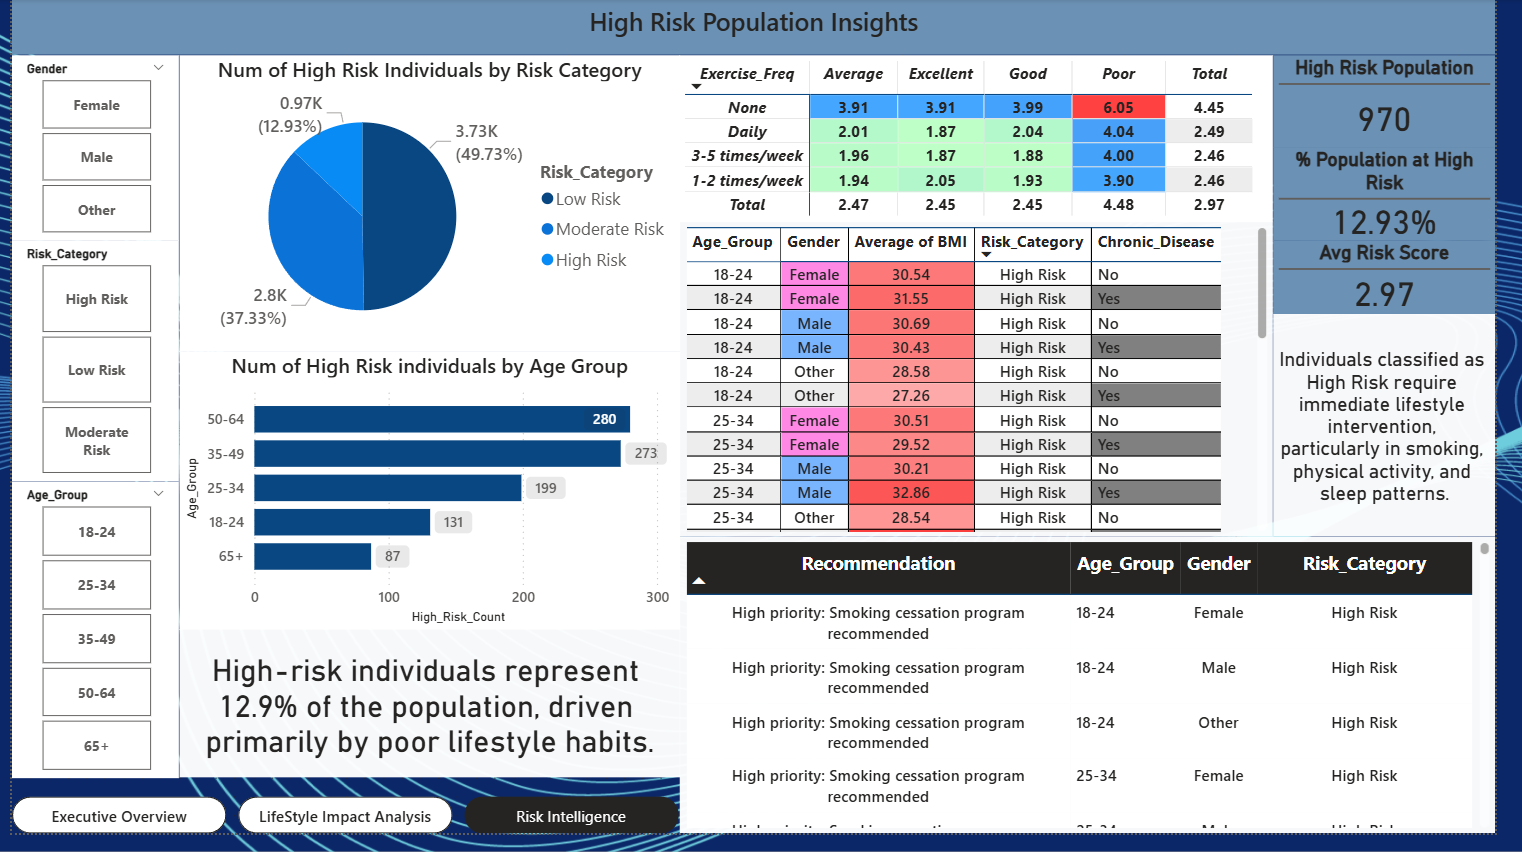

The dashboard page shown, as its layout file describes it:
{"tool":"powerbi","page":{"name":"Risk Intelligence","canvas":[1280,720],"ordinal":2},"visuals":[{"type":"pieChart","title":"Num of High Risk Individuals by Risk Category","fields":{"Category":["synthetic_health_lifestyle_dataset.Risk_Category"],"Y":["CountNonNull(synthetic_health_lifestyle_dataset.ID)"]},"box":[144,48,432,256],"z":0},{"type":"barChart","title":"Num of High Risk individuals by Age Group","fields":{"Y":["synthetic_health_lifestyle_dataset.High_Risk_Count"],"Category":["synthetic_health_lifestyle_dataset.Age_Group"]},"box":[144,304,432,240],"z":1000},{"type":"pivotTable","fields":{"Rows":["synthetic_health_lifestyle_dataset.Exercise_Freq"],"Columns":["synthetic_health_lifestyle_dataset.Diet_Quality"],"Values":["Avg(synthetic_health_lifestyle_dataset.Risk_Score)"]},"box":[576,48,512,144],"z":2000},{"type":"tableEx","fields":{"Values":["synthetic_health_lifestyle_dataset.Age_Group","synthetic_health_lifestyle_dataset.Gender","Avg(synthetic_health_lifestyle_dataset.BMI)","synthetic_health_lifestyle_dataset.Risk_Category","synthetic_health_lifestyle_dataset.Chronic_Disease"]},"box":[576,192,512,272],"z":3000},{"type":"card","title":"High Risk Population","fields":{"Values":["synthetic_health_lifestyle_dataset.High_Risk_Count"]},"box":[1088,48,192,80],"z":4000},{"type":"card","title":"% Population at High Risk","fields":{"Values":["synthetic_health_lifestyle_dataset.High_Risk_Percentage"]},"box":[1088,128,192,80],"z":5000},{"type":"card","title":"Avg Risk Score","fields":{"Values":["Avg(synthetic_health_lifestyle_dataset.Risk_Score)"]},"box":[1088,208,192,64],"z":6000},{"type":"textbox","box":[0,0,1280,48],"z":7000},{"type":"card","fields":{"Values":["synthetic_health_lifestyle_dataset.Key_Insight"]},"box":[144,544,432,128],"z":8000},{"type":"tableEx","fields":{"Values":["synthetic_health_lifestyle_dataset.Recommendation","synthetic_health_lifestyle_dataset.Age_Group","synthetic_health_lifestyle_dataset.Gender","synthetic_health_lifestyle_dataset.Risk_Category"]},"box":[576,464,704,256],"z":9000},{"type":"slicer","fields":{"Values":["synthetic_health_lifestyle_dataset.Gender"]},"box":[0,48,144,160],"z":10000},{"type":"slicer","fields":{"Values":["synthetic_health_lifestyle_dataset.Age_Group"]},"box":[0,416,144,256],"z":11000},{"type":"slicer","fields":{"Values":["synthetic_health_lifestyle_dataset.Risk_Category"]},"box":[0,208,144,208],"z":12000},{"type":"card","fields":{"Values":["synthetic_health_lifestyle_dataset.Smart_Insight"]},"box":[1088,272,192,192],"z":13000},{"type":"pageNavigator","box":[0,688,576,32],"z":13001}]}

Visuals, with their boxes in screenshot pixels (x1, y1, x2, y2), scaled from the page's 1280x720 canvas onto the 1522x852 screenshot:
"Num of High Risk Individuals by Risk Category" pieChart: l=171, t=57, r=685, b=360
"Num of High Risk individuals by Age Group" barChart: l=171, t=360, r=685, b=644
pivotTable - synthetic_health_lifestyle_dataset.Exercise_Freq x synthetic_health_lifestyle_dataset.Diet_Quality: l=685, t=57, r=1294, b=227
tableEx - synthetic_health_lifestyle_dataset.Age_Group x synthetic_health_lifestyle_dataset.Gender: l=685, t=227, r=1294, b=549
"High Risk Population" card: l=1294, t=57, r=1521, b=151
"% Population at High Risk" card: l=1294, t=151, r=1521, b=246
"Avg Risk Score" card: l=1294, t=246, r=1521, b=322
textbox: l=0, t=0, r=1521, b=57
card - synthetic_health_lifestyle_dataset.Key_Insight: l=171, t=644, r=685, b=795
tableEx - synthetic_health_lifestyle_dataset.Recommendation x synthetic_health_lifestyle_dataset.Age_Group: l=685, t=549, r=1521, b=851
slicer - synthetic_health_lifestyle_dataset.Gender: l=0, t=57, r=171, b=246
slicer - synthetic_health_lifestyle_dataset.Age_Group: l=0, t=492, r=171, b=795
slicer - synthetic_health_lifestyle_dataset.Risk_Category: l=0, t=246, r=171, b=492
card - synthetic_health_lifestyle_dataset.Smart_Insight: l=1294, t=322, r=1521, b=549
pageNavigator: l=0, t=814, r=685, b=851
